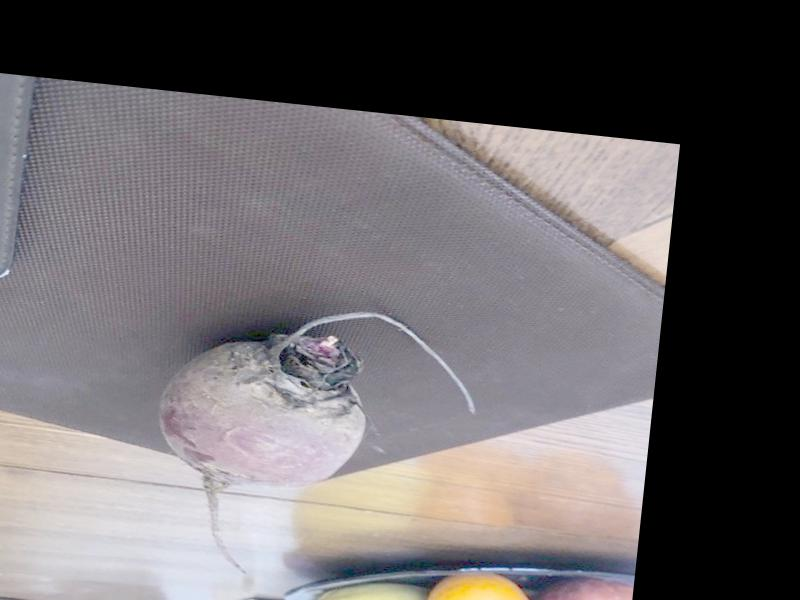Beet: (142, 291, 484, 597)
